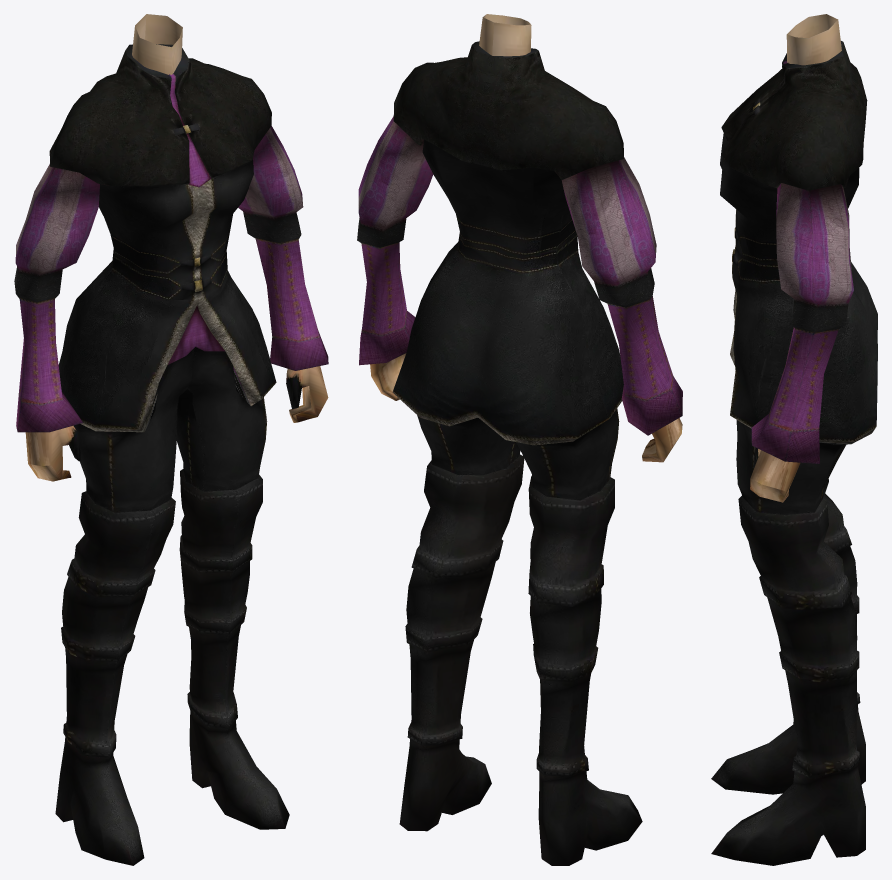
File: STROJ_KOBIECY_ROZOWY_01.glb
3 renders of one model, left to right at view 1: azimuth 30°, elevation 25°; view 2: azimuth 150°, elevation 25°; view 3: azimuth 270°, elevation 25°, orthographic. The views are drawn at different scales.
Parts seen in each view (by area): view 1: STROJ_KOBIECY_ROZOWY_01; view 2: STROJ_KOBIECY_ROZOWY_01; view 3: STROJ_KOBIECY_ROZOWY_01.
Boxes of the visible parts, x1,y1,x2,y2 form: STROJ_KOBIECY_ROZOWY_01: (14, 14, 328, 865); STROJ_KOBIECY_ROZOWY_01: (357, 14, 682, 865); STROJ_KOBIECY_ROZOWY_01: (711, 14, 877, 865).
Bounding box in the file's own units: 0.6925 × 1.68 × 0.3182.
Materials: 2 (2 with a texture image).
